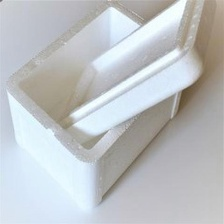foam_box: (0, 0, 224, 213)
